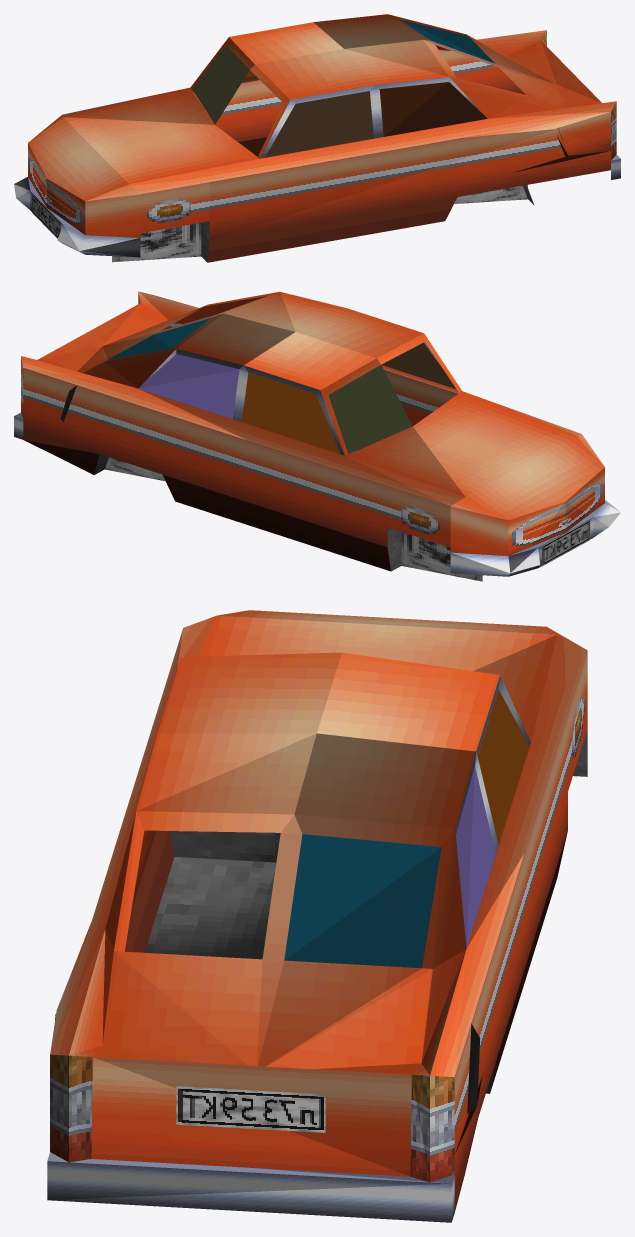
File: primary_011.glb
The picture shows the model from 3 angles, top to bottom: view 1: azimuth 30°, elevation 25°; view 2: azimuth 150°, elevation 25°; view 3: azimuth 270°, elevation 25°; orthographic projection. The views are drawn at different scales.
Visible parts, largest first — view 1: Object; view 2: Object; view 3: Object.
Boxes of the visible parts, left/top/right/bottom form: Object: left=14, top=14, right=620, bottom=262; Object: left=14, top=291, right=620, bottom=581; Object: left=47, top=610, right=587, bottom=1222.
Bounding box in the file's own units: 5.74 × 1.53 × 2.56.
Materials: 86 (86 with a texture image).
